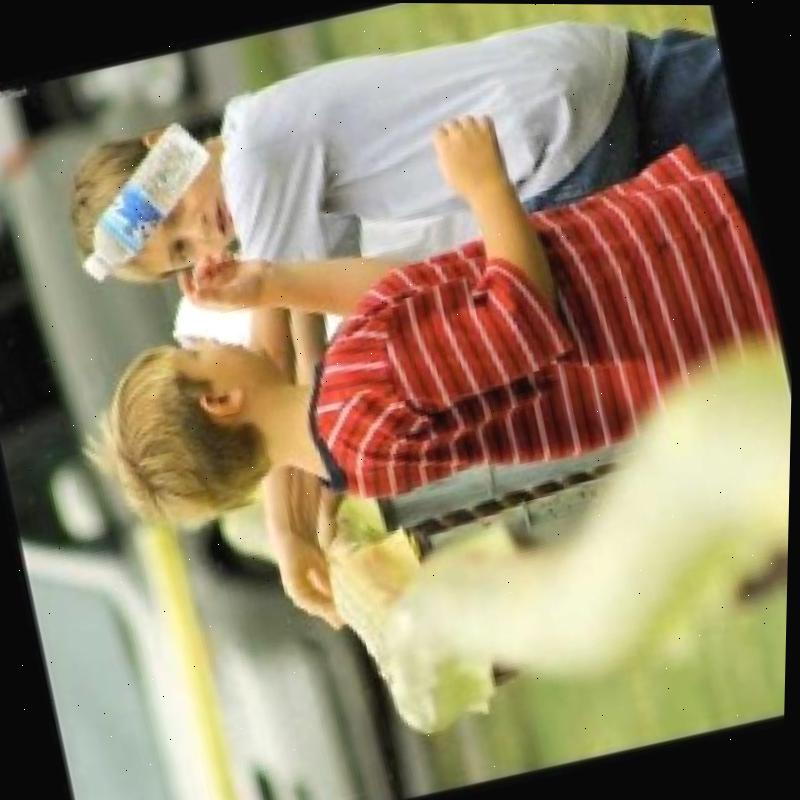botella: (54, 114, 234, 289)
